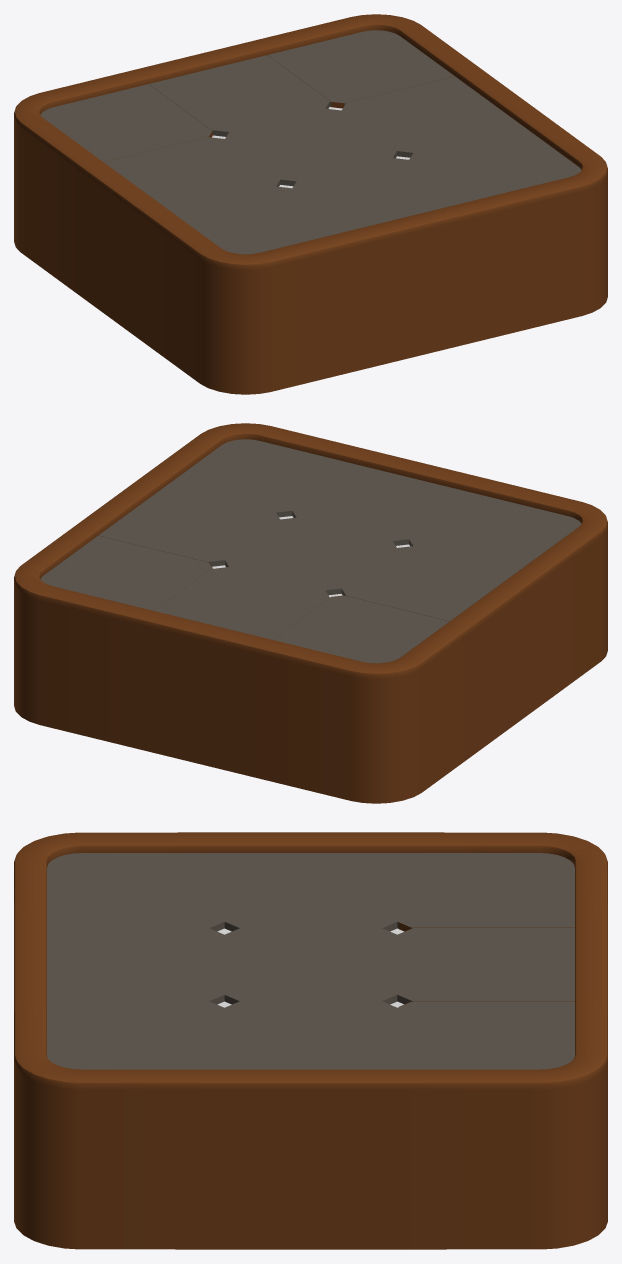
3 views of the same model, one above another, from view 1: azimuth 30°, elevation 25°; view 2: azimuth 150°, elevation 25°; view 3: azimuth 270°, elevation 25° (orthographic). The views are drawn at different scales.
Parts seen in each view (by area): view 1: Cube.010, Cube.012, Cube.011, Cube.016, Plane.007, Cube.018, Cube.017, Cube.013, Plane.003; view 2: Cube.016, Cube.018, Cube.017, Cube.010, Plane.007, Cube.012, Cube.011, Cube.013, Plane.003; view 3: Cube.012, Cube.018, Cube.013, Cube.010, Cube.016, Plane.007, Cube.011, Cube.017, Plane.003.
Part boxes in pixels (x1,y1,x2,y2): Cube.010: [144, 186, 367, 394]; Cube.012: [408, 115, 607, 339]; Cube.011: [291, 158, 486, 368]; Cube.016: [14, 69, 215, 292]; Plane.007: [76, 137, 282, 342]; Cube.018: [256, 14, 476, 110]; Cube.017: [137, 40, 332, 138]; Cube.013: [340, 65, 544, 159]; Plane.003: [224, 108, 400, 187]; Cube.016: [254, 595, 477, 803]; Cube.018: [14, 524, 213, 748]; Cube.017: [135, 567, 330, 777]; Cube.010: [406, 478, 607, 701]; Plane.007: [339, 546, 545, 751]; Cube.012: [145, 423, 365, 519]; Cube.011: [289, 449, 484, 547]; Cube.013: [77, 474, 281, 568]; Plane.003: [221, 517, 397, 596]; Cube.012: [14, 994, 224, 1249]; Cube.018: [397, 994, 607, 1249]; Cube.013: [222, 1001, 399, 1249]; Cube.010: [14, 832, 224, 934]; Cube.016: [397, 832, 607, 934]; Plane.007: [222, 832, 399, 934]; Cube.011: [14, 919, 224, 1007]; Cube.017: [397, 919, 607, 1007]; Plane.003: [224, 928, 397, 1007].
Size of the model in its own units: 1.41 by 0.4375 by 1.41.
